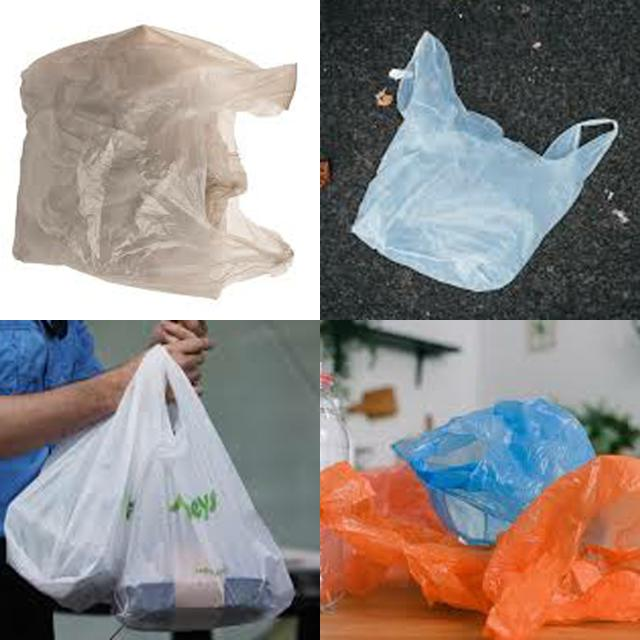Single-layer Plastic: (14, 26, 296, 298), (352, 32, 619, 291), (321, 456, 640, 640), (116, 350, 292, 622), (5, 345, 171, 610), (392, 398, 594, 545)
